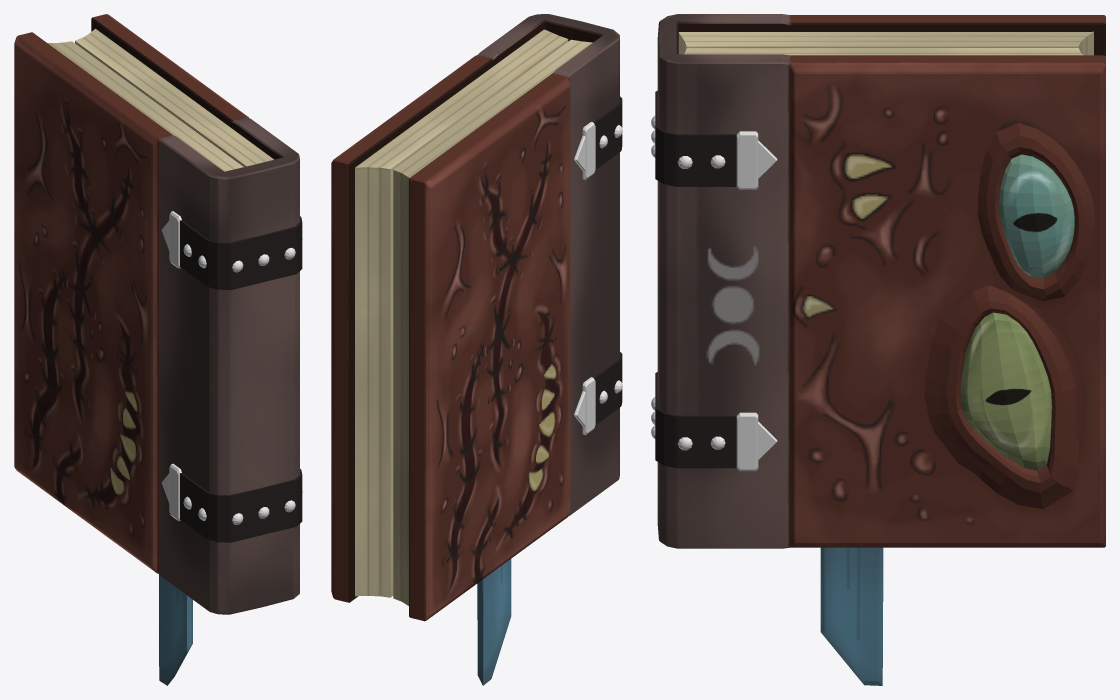
The model's file is Ghoul.fbx.
3 renders of one model, left to right at view 1: azimuth 30°, elevation 25°; view 2: azimuth 150°, elevation 25°; view 3: azimuth 270°, elevation 25°, orthographic. The views are drawn at different scales.
Parts seen in each view (by area): view 1: Cubierta, Lengua; view 2: Cubierta, Lengua; view 3: Cubierta, Ojos, Lengua.
Boxes of the visible parts, box(x1,y1,x2,y2) form: Cubierta: box(14, 14, 302, 614); Lengua: box(159, 574, 192, 685); Cubierta: box(331, 14, 622, 621); Lengua: box(477, 559, 511, 685); Cubierta: box(651, 14, 1105, 548); Ojos: box(960, 154, 1074, 470); Lengua: box(820, 547, 883, 685).
Size of the model in its own units: 64.65 by 305 by 194.
